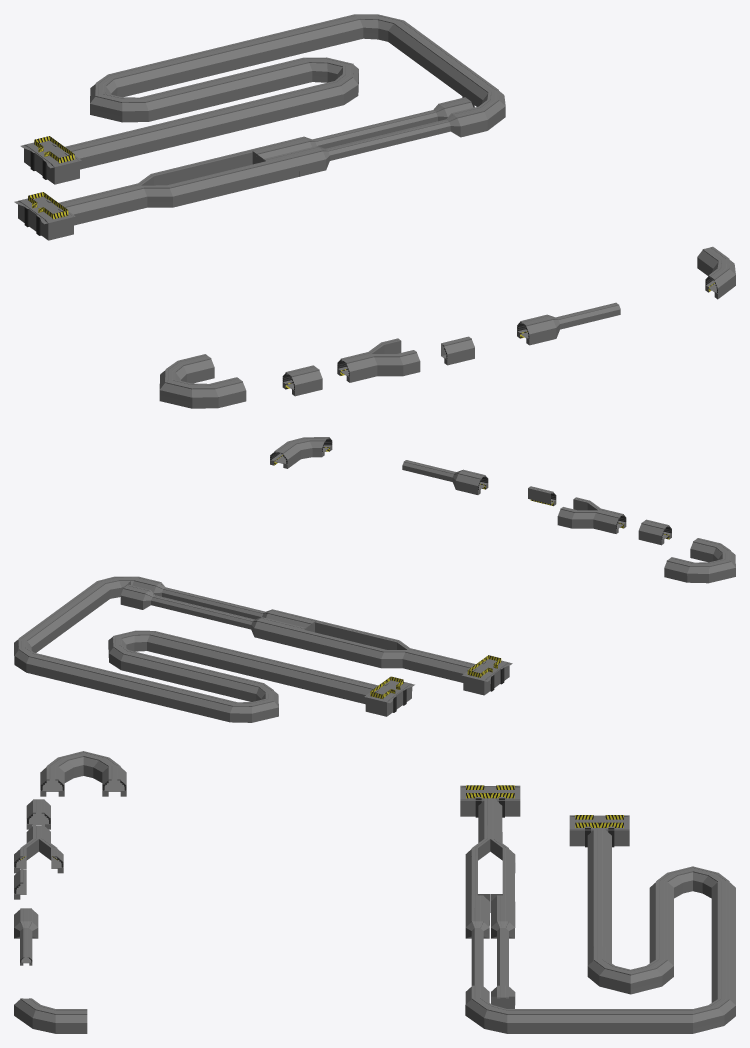
The model's file is tunnel models FIXED.fbx.
The picture shows the model from 3 angles, top to bottom: view 1: azimuth 30°, elevation 25°; view 2: azimuth 150°, elevation 25°; view 3: azimuth 270°, elevation 25°; orthographic projection. The views are drawn at different scales.
Visible parts, largest first — view 1: Cube.002, Cube.046, Cube.048, Cube.044, Cube.049, Cube.047, Cube.045; view 2: Cube.002, Cube.046, Cube.048, Cube.044, Cube.049, Cube.047; view 3: Cube.002, Cube.046, Cube.049, Cube.048, Cube.044, Cube.047.
Part boxes in pixels (left/top/right/bottom): Cube.002: left=14, top=14, right=505, bottom=240; Cube.046: left=159, top=354, right=246, bottom=408; Cube.048: left=337, top=338, right=420, bottom=382; Cube.044: left=517, top=302, right=620, bottom=345; Cube.049: left=697, top=246, right=735, bottom=299; Cube.047: left=282, top=365, right=322, bottom=396; Cube.045: left=441, top=336, right=474, bottom=365; Cube.002: left=14, top=576, right=512, bottom=722; Cube.046: left=664, top=538, right=735, bottom=583; Cube.048: left=557, top=497, right=626, bottom=533; Cube.044: left=402, top=460, right=488, bottom=494; Cube.049: left=270, top=437, right=332, bottom=468; Cube.047: left=638, top=519, right=671, bottom=545; Cube.002: left=460, top=785, right=735, bottom=1033; Cube.046: left=40, top=751, right=126, bottom=796; Cube.049: left=14, top=998, right=87, bottom=1033; Cube.048: left=14, top=825, right=63, bottom=873; Cube.044: left=14, top=908, right=38, bottom=965; Cube.047: left=26, top=799, right=50, bottom=829.
Size of the model in its own units: 21127 by 852 by 24023.
